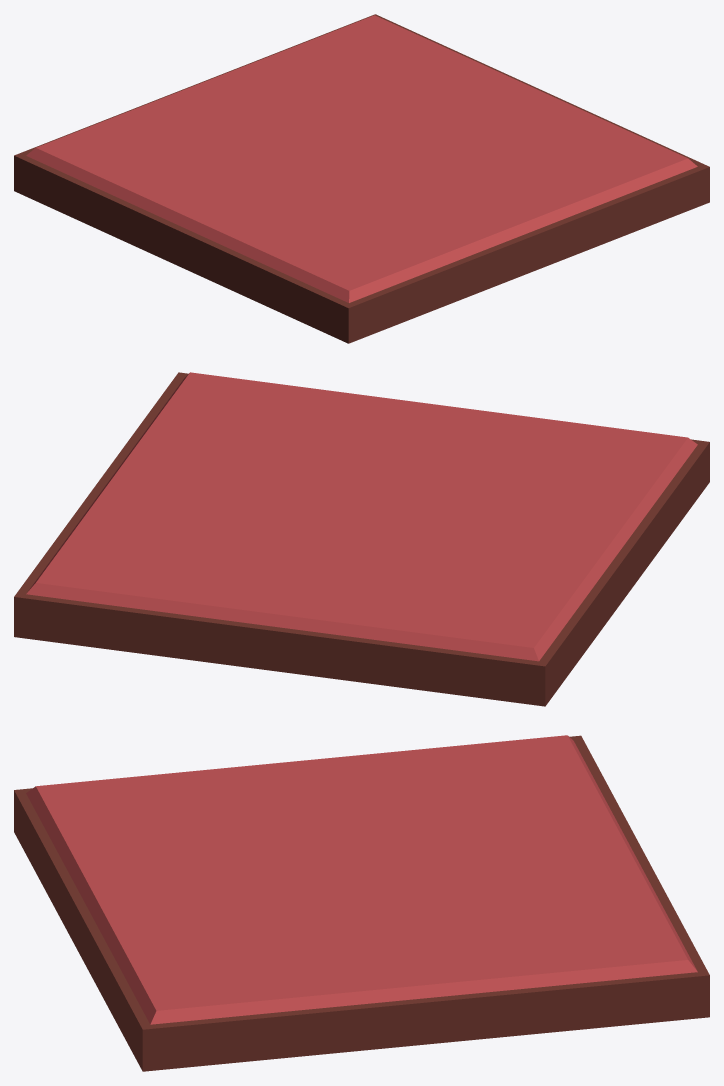
Rendered from Red Rubber Pavement.fbx.
3 renders of one model, top to bottom at view 1: azimuth 30°, elevation 25°; view 2: azimuth 150°, elevation 25°; view 3: azimuth 270°, elevation 25°, orthographic. The views are drawn at different scales.
Visible parts, largest first — view 1: Red Rubber Pavement; view 2: Red Rubber Pavement; view 3: Red Rubber Pavement.
Boxes of the visible parts, x1,y1,x2,y2 form: Red Rubber Pavement: (14,14,709,343); Red Rubber Pavement: (14,372,709,706); Red Rubber Pavement: (14,735,709,1071).
Bounding box in the file's own units: 331 × 331 × 27.06.
